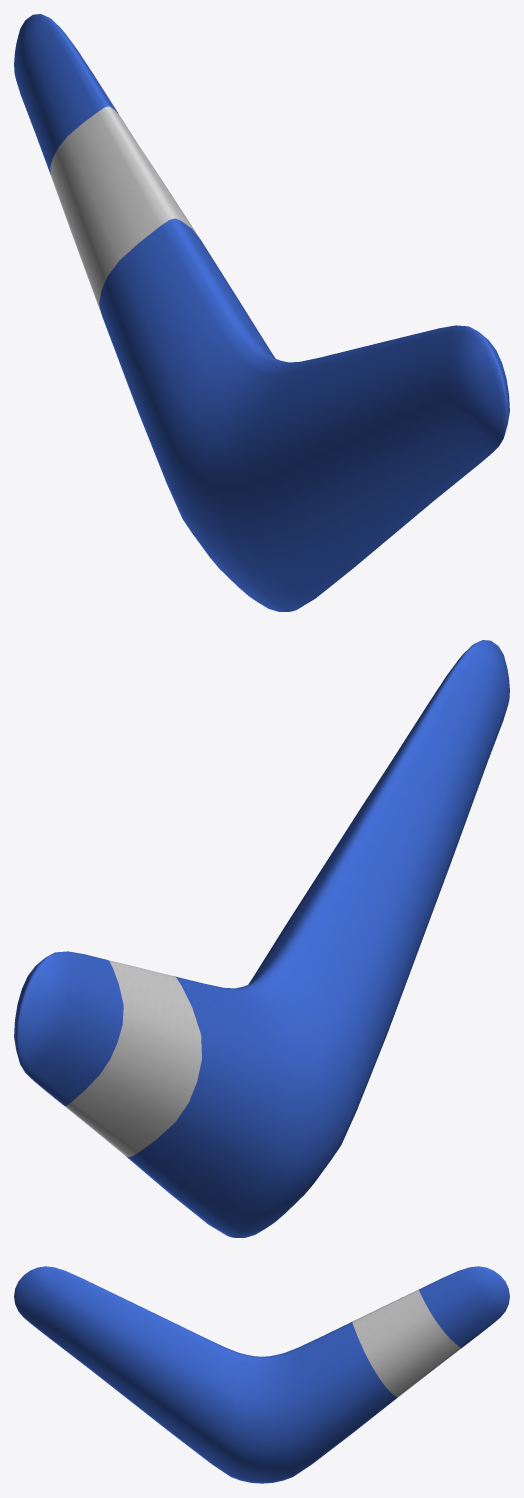
The model's file is boomerang.glb.
3 views of the same model, one above another, from view 1: azimuth 30°, elevation 25°; view 2: azimuth 150°, elevation 25°; view 3: azimuth 270°, elevation 25° (orthographic). The views are drawn at different scales.
Parts seen in each view (by area): view 1: Object_2; view 2: Object_2; view 3: Object_2.
Boxes of the visible parts, bbox=[...] form: Object_2: bbox=[14, 14, 509, 611]; Object_2: bbox=[14, 640, 509, 1237]; Object_2: bbox=[14, 1266, 509, 1483].
Size of the model in its own units: 1.16 by 3.71 by 7.72.
1 material, 1 textured.
